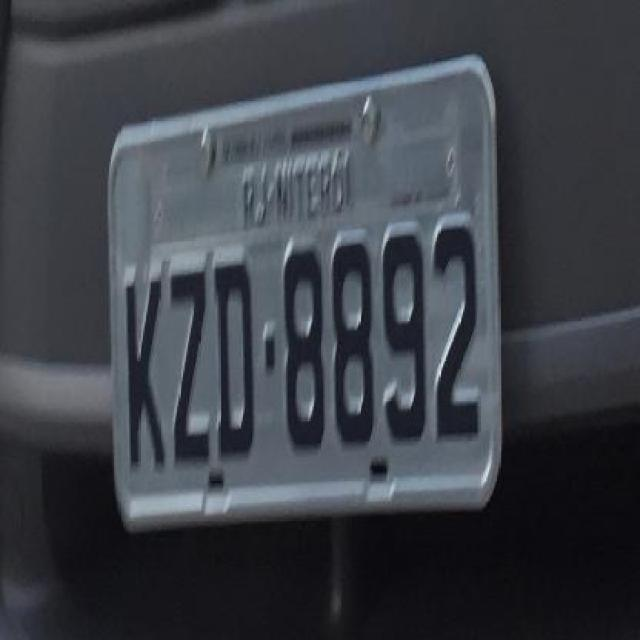old_plate: (98, 44, 513, 544)
